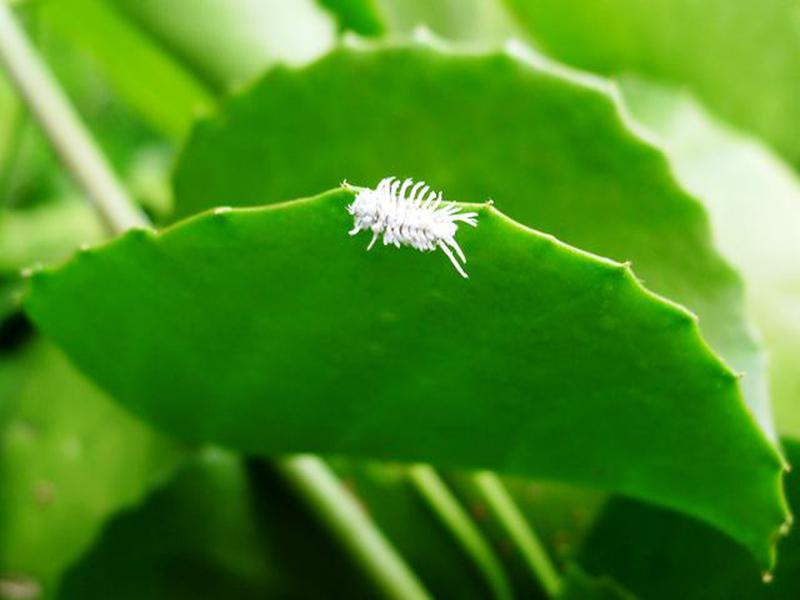Mealy_bug: (325, 164, 493, 286)
